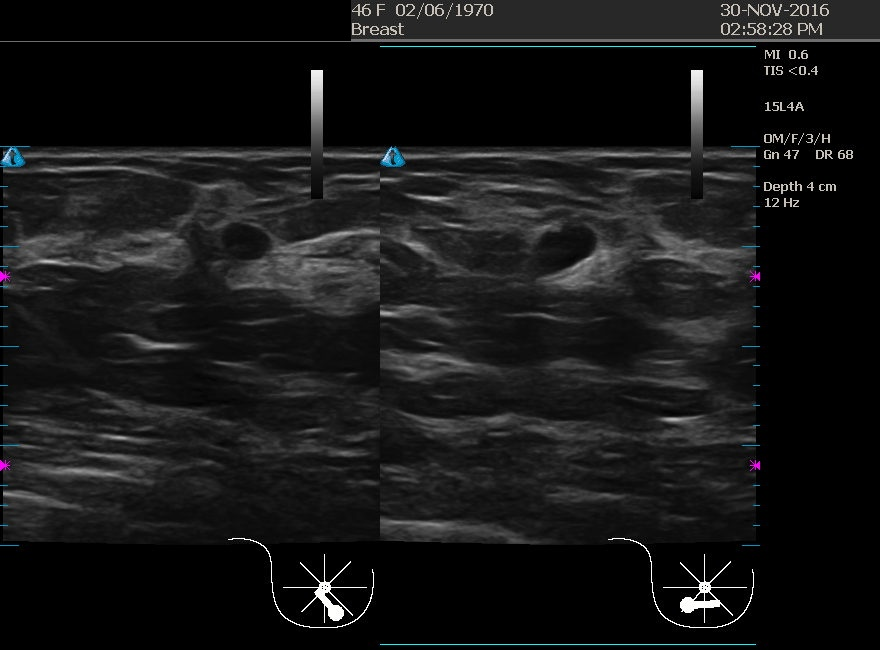BIRADS_2: (147, 206, 339, 398), (458, 173, 650, 365)
